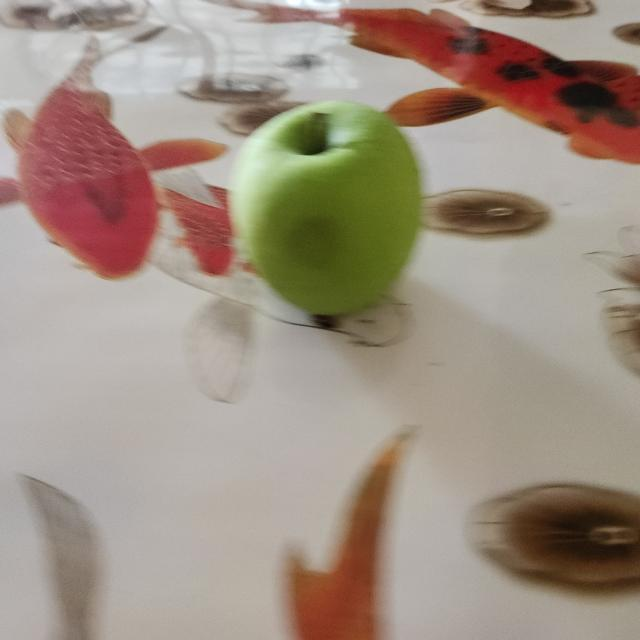apple: (222, 96, 434, 325)
